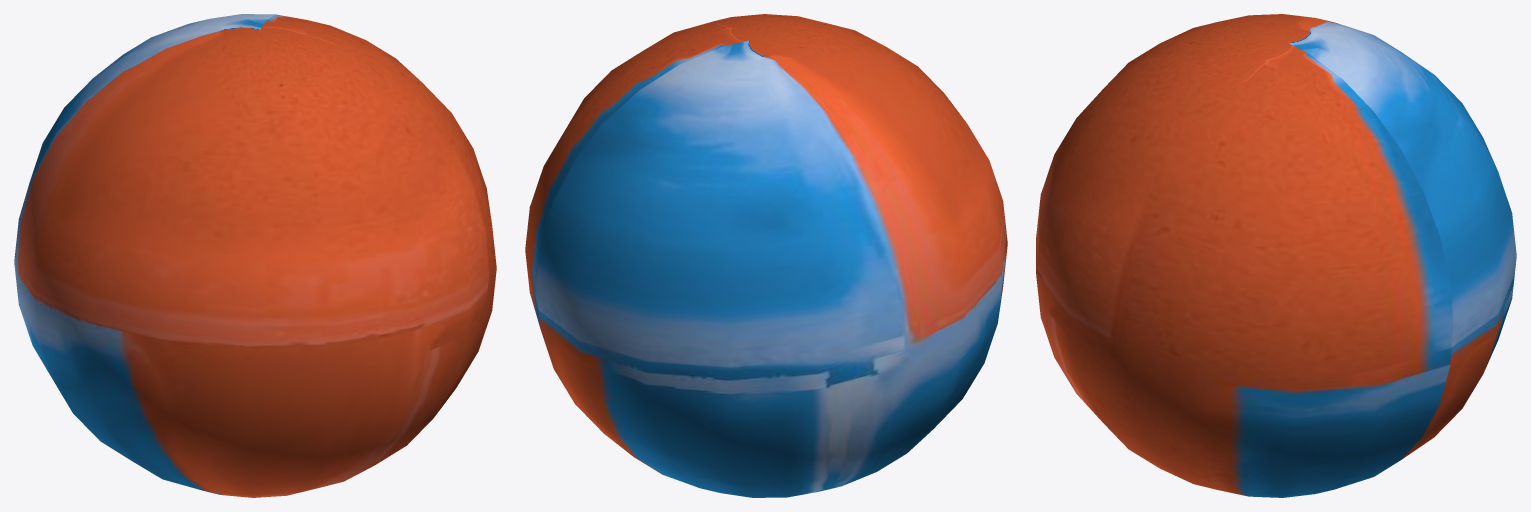
Rendered from ball.fbx.
3 views of the same model, side by side, from view 1: azimuth 30°, elevation 25°; view 2: azimuth 150°, elevation 25°; view 3: azimuth 270°, elevation 25° (orthographic).
Parts seen in each view (by area): view 1: Ball; view 2: Ball; view 3: Ball.
Boxes of the visible parts, x1,y1,x2,y2 form: Ball: (14,14,496,497); Ball: (525,14,1007,497); Ball: (1036,14,1516,497).
Size of the model in its own units: 74.09 by 74.41 by 73.77.
